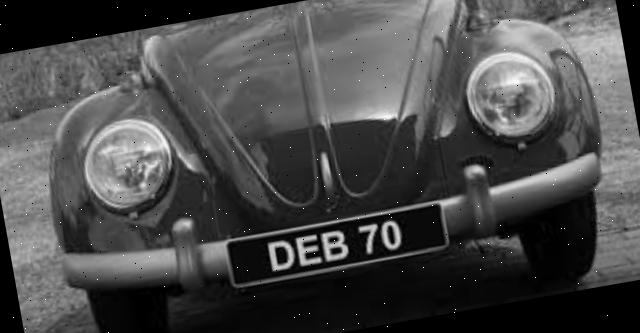License_Plate: (215, 197, 461, 304)
car: (16, 1, 625, 333)
